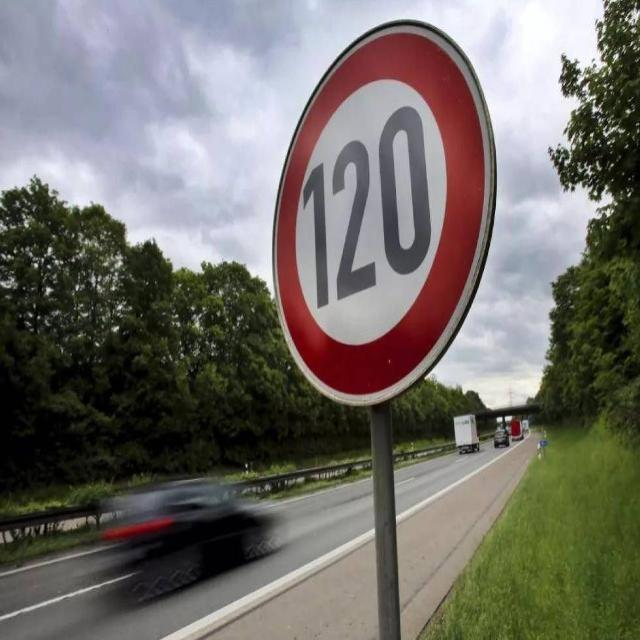speed limit 120: (272, 21, 496, 405)
